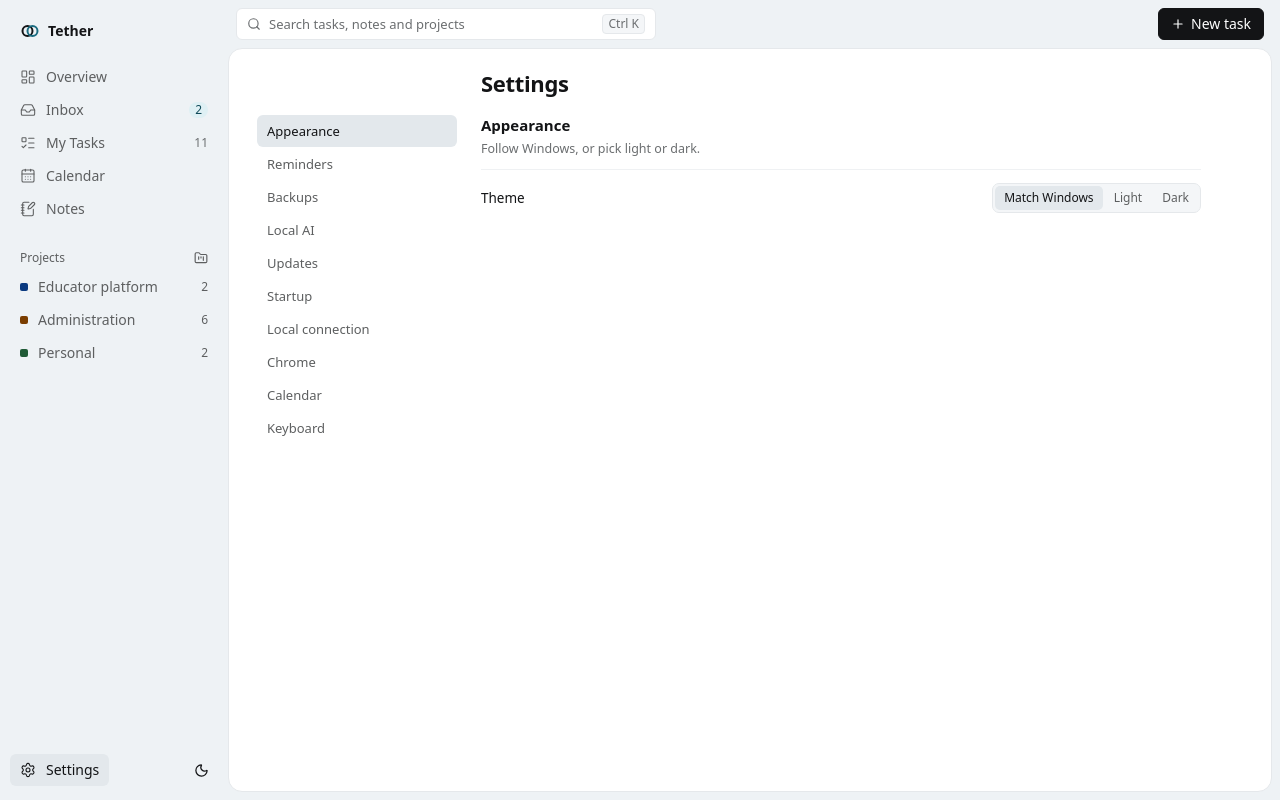
Test: Settings sections › the Calendar section says Coming later and Connect is off
Step 1. Click the button "Calendar" → [357, 395], box [257, 379, 457, 411]
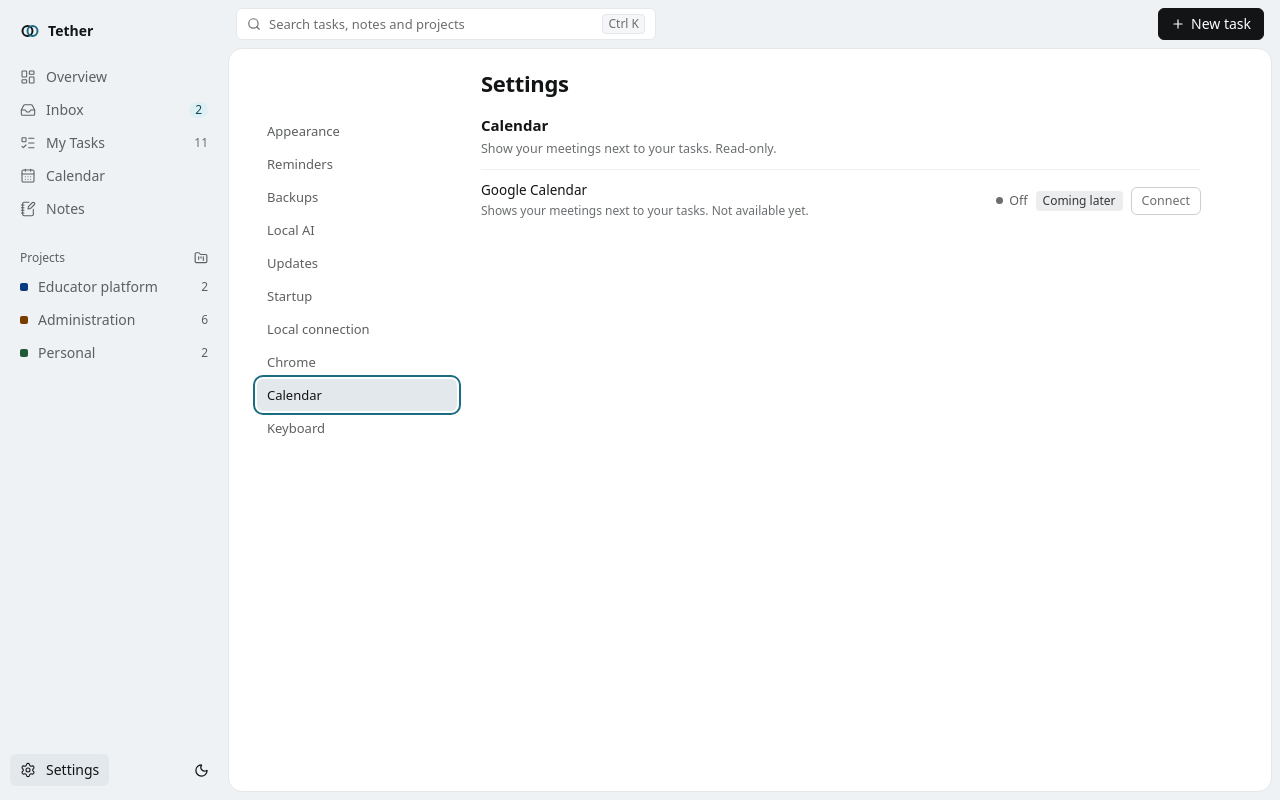
Now the heading "Calendar" is shown, box [481, 115, 548, 135]
Now the text "Coming later" is shown, box [1036, 190, 1122, 210]
Now the text "Shows your meetings next to your tasks. Not available yet." is shown, box [481, 202, 809, 219]
